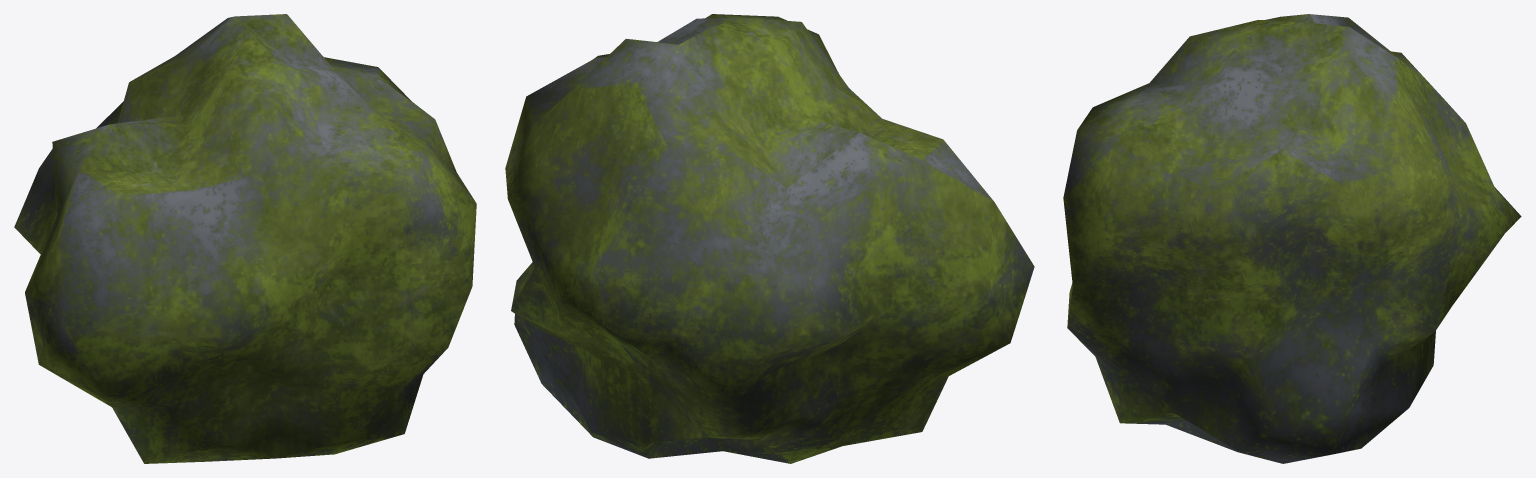
The model's file is Batu.fbx.
3 views of the same model, side by side, from view 1: azimuth 30°, elevation 25°; view 2: azimuth 150°, elevation 25°; view 3: azimuth 270°, elevation 25° (orthographic). The views are drawn at different scales.
Parts seen in each view (by area): view 1: Batu1; view 2: Batu1; view 3: Batu1.
Boxes of the visible parts, <box> form: Batu1: <box>14,14,476,463</box>; Batu1: <box>505,14,1034,463</box>; Batu1: <box>1063,14,1521,463</box>.
Size of the model in its own units: 1378 by 1276 by 1290.
1 material, 1 textured.
